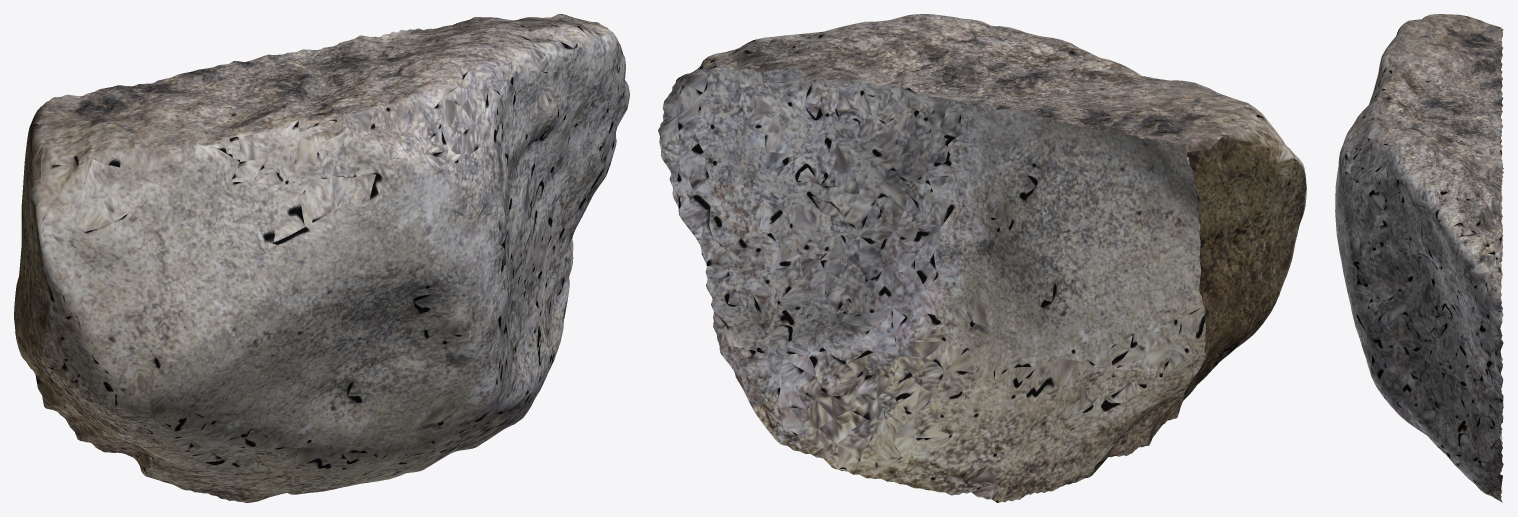
Rendered from photoscanned-rock-03_2K_6669afd9-de42-4d31-9b27-ec4e7f815039.glb.
3 renders of one model, left to right at view 1: azimuth 30°, elevation 25°; view 2: azimuth 150°, elevation 25°; view 3: azimuth 270°, elevation 25°, orthographic. The views are drawn at different scales.
Parts seen in each view (by area): view 1: Rock 03; view 2: Rock 03; view 3: Rock 03.
Boxes of the visible parts, x1,y1,x2,y2 form: Rock 03: (14,14,629,502); Rock 03: (658,14,1306,502); Rock 03: (1335,14,1503,502).
Bounding box in the file's own units: 0.4354 × 0.2961 × 0.1345.
Materials: 1 (1 with a texture image).
